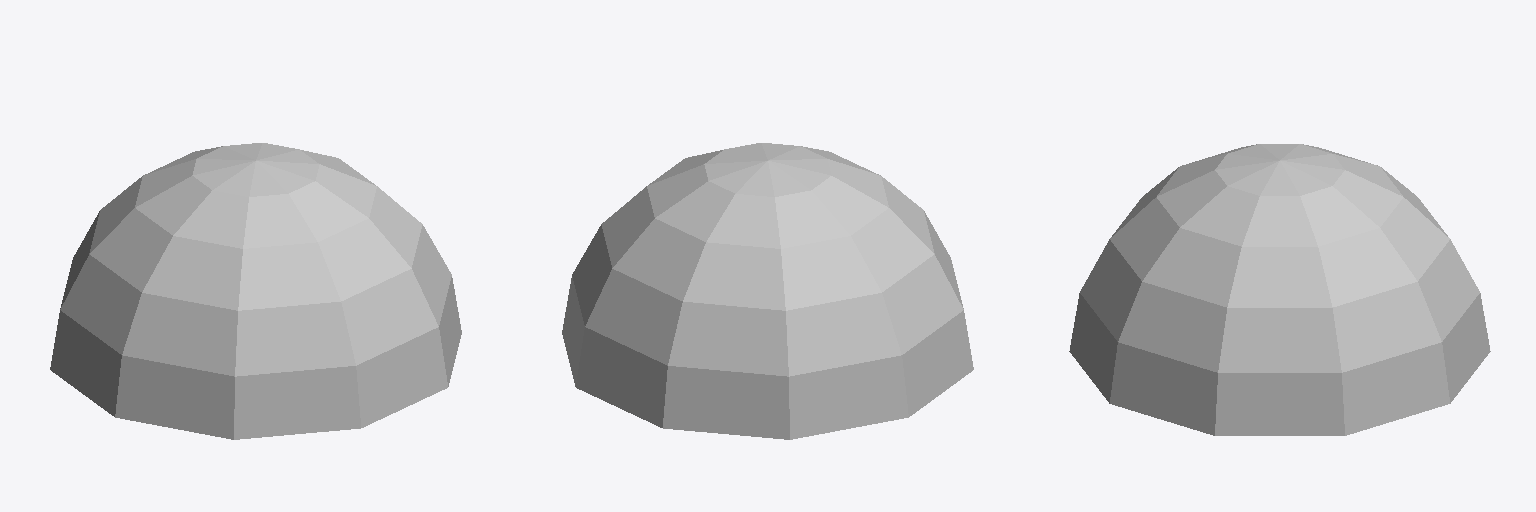
Rendered from hemisphere.obj.
The picture shows the model from 3 angles: view 1: azimuth 30°, elevation 25°; view 2: azimuth 150°, elevation 25°; view 3: azimuth 270°, elevation 25°; orthographic projection.
Visible parts, largest first — view 1: Sphere_Sphere.001; view 2: Sphere_Sphere.001; view 3: Sphere_Sphere.001.
Boxes of the visible parts, x1,y1,x2,y2 form: Sphere_Sphere.001: [50, 143, 461, 439]; Sphere_Sphere.001: [562, 143, 973, 439]; Sphere_Sphere.001: [1069, 144, 1490, 435].
Bounding box in the file's own units: 1.9 × 1 × 2.